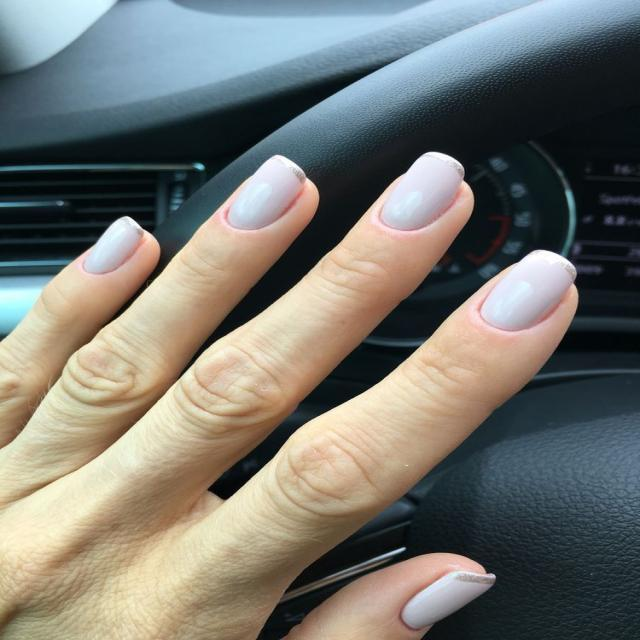Fingernail: (483, 251, 575, 331), (382, 154, 462, 229), (402, 571, 493, 630), (229, 158, 302, 229), (83, 219, 141, 274)
